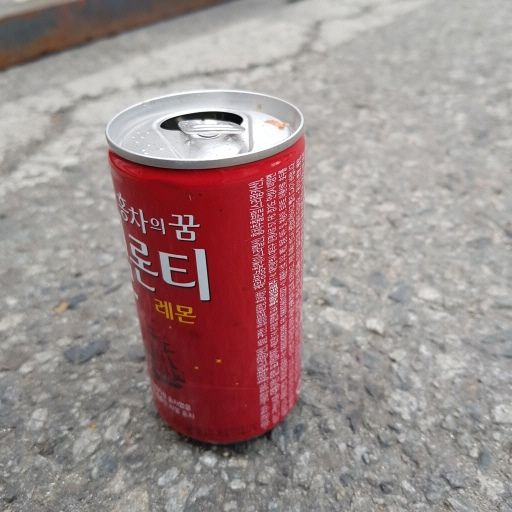Metal_0: (102, 86, 310, 450)
